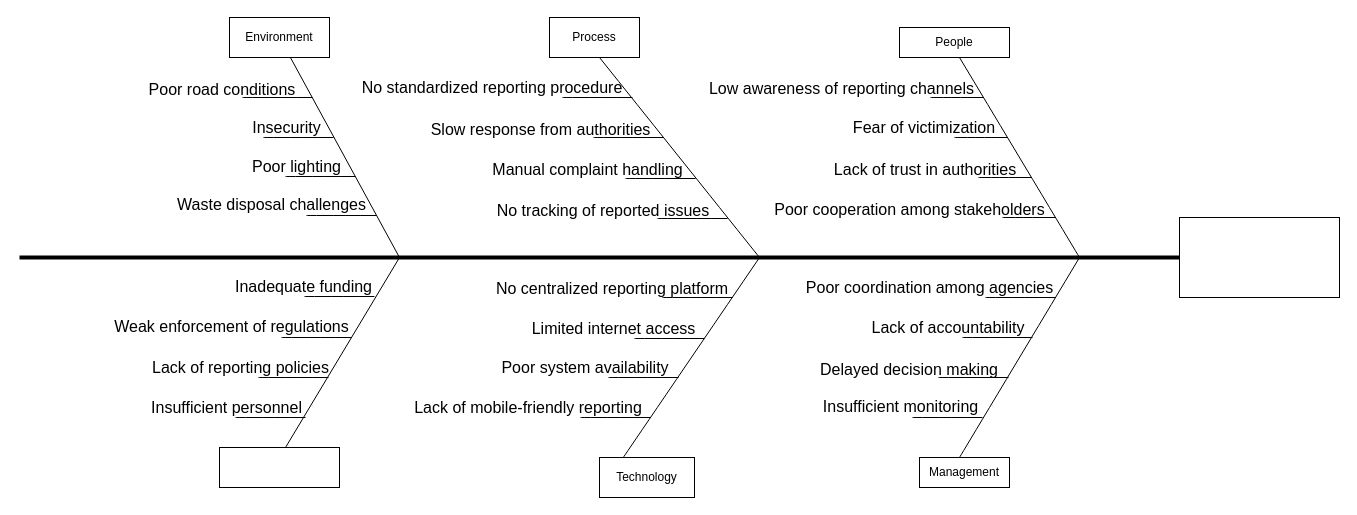
The diagram is 1357 pixels wide and 515 high, and some of its shapes have lost their labels. The box of each missing label's shape, as (x1, y1, x2, y2) in pixels:
Ineffective Reporting and Resolution of Community & Student Issues: (1178, 216, 1340, 298)
Policy / Resources: (218, 446, 340, 488)
